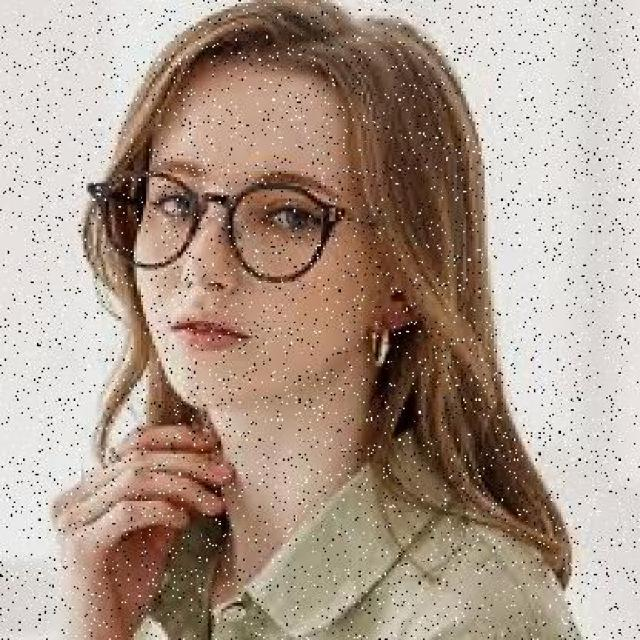mask: (82, 143, 362, 297)
